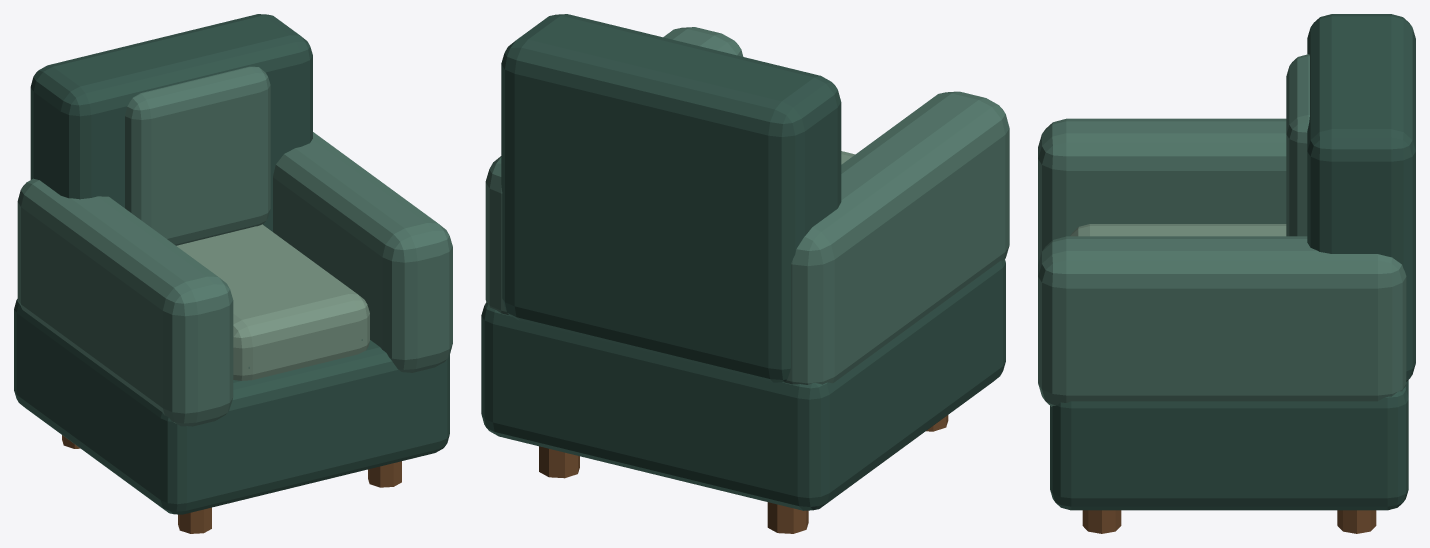
The model's file is sofa_module.glb.
3 views of the same model, side by side, from view 1: azimuth 30°, elevation 25°; view 2: azimuth 150°, elevation 25°; view 3: azimuth 270°, elevation 25° (orthographic). The views are drawn at different scales.
Visible parts, largest first — view 1: sofa_module__green_velvet, sofa_module__green_shadow, sofa_module__green_edge, sofa_module__oak_dark; view 2: sofa_module__green_shadow, sofa_module__green_velvet, sofa_module__oak_dark; view 3: sofa_module__green_velvet, sofa_module__green_shadow, sofa_module__green_edge, sofa_module__oak_dark.
Part boxes in pixels (bbox=[...]): sofa_module__green_velvet: bbox=[17, 66, 452, 426]; sofa_module__green_shadow: bbox=[14, 14, 449, 514]; sofa_module__green_edge: bbox=[176, 224, 369, 380]; sofa_module__oak_dark: bbox=[62, 435, 401, 533]; sofa_module__green_shadow: bbox=[481, 14, 1005, 510]; sofa_module__green_velvet: bbox=[485, 27, 1009, 384]; sofa_module__oak_dark: bbox=[539, 415, 948, 533]; sofa_module__green_velvet: bbox=[1038, 54, 1406, 406]; sofa_module__green_shadow: bbox=[1050, 14, 1415, 510]; sofa_module__green_edge: bbox=[1070, 224, 1286, 236]; sofa_module__oak_dark: bbox=[1082, 510, 1376, 533].
Bounding box in the file's own units: 0.77 × 0.94 × 0.8.
